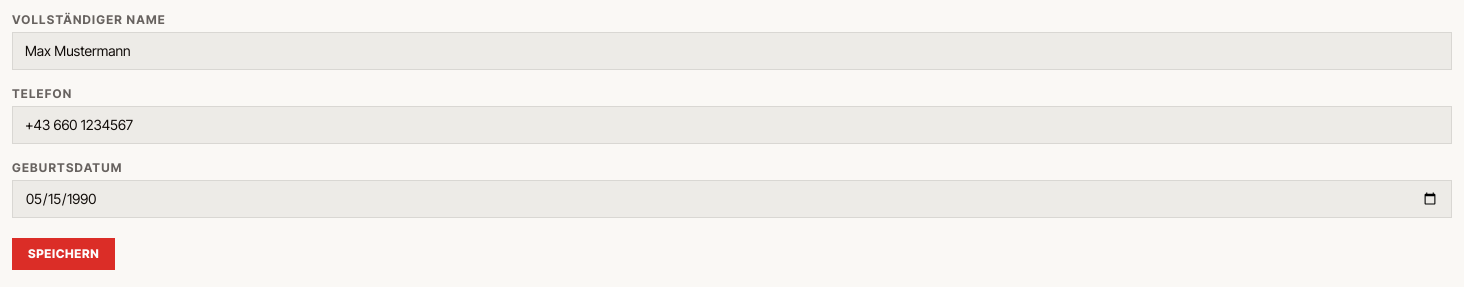
Test: ProfileForm › shows saved message on successful submit
Click the button "Speichern".
click(64, 254)  # box [12,238,115,270]
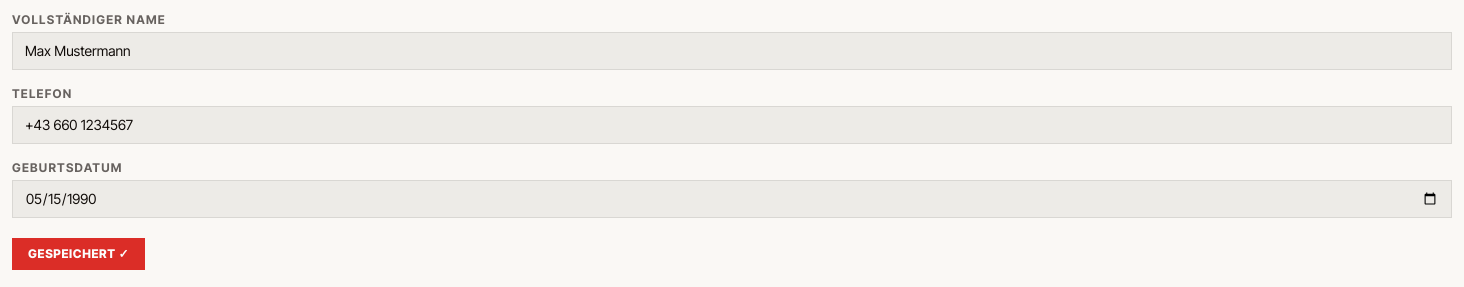
Expected: the button "Gespeichert ✓" is shown, [12,238,145,270]
